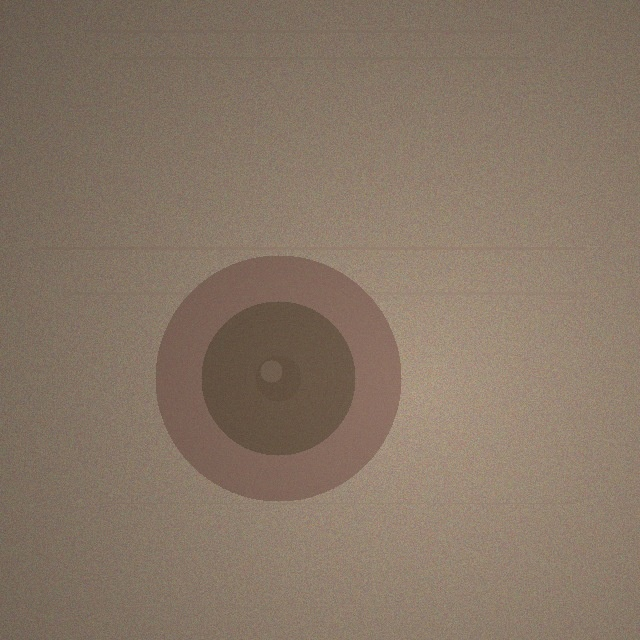good: (155, 255, 401, 501)
